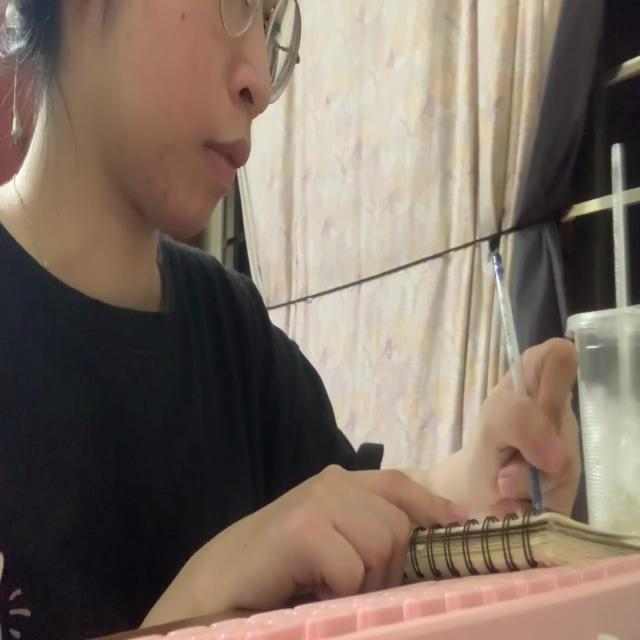book: (401, 507, 640, 582)
student: (1, 0, 584, 640)
